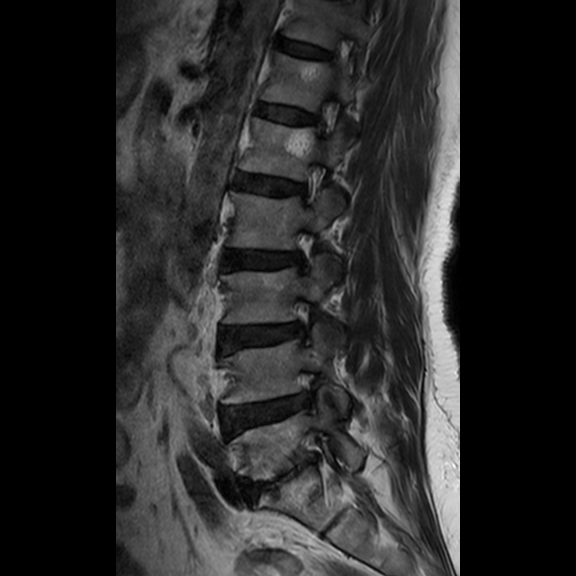LFS0: (288, 154, 331, 213)
LFS1: (283, 219, 325, 283)
LFS2: (281, 290, 326, 353)
LFS3: (284, 363, 330, 427)
